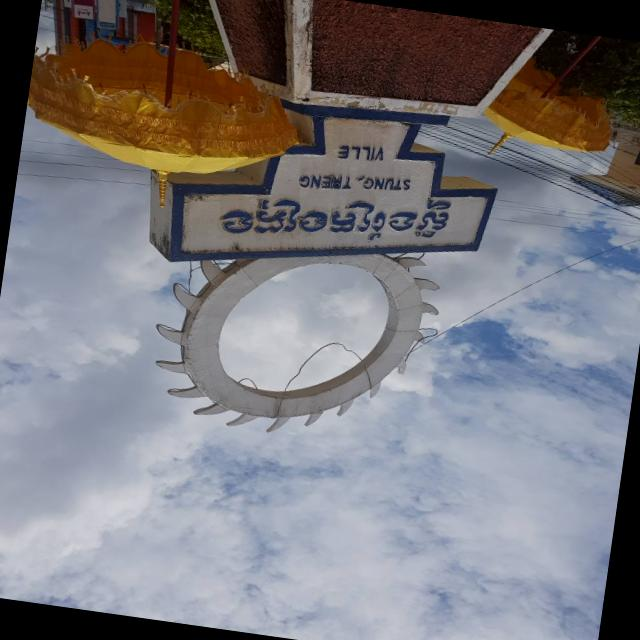Yolov11_80vkh: (214, 197, 454, 247)
